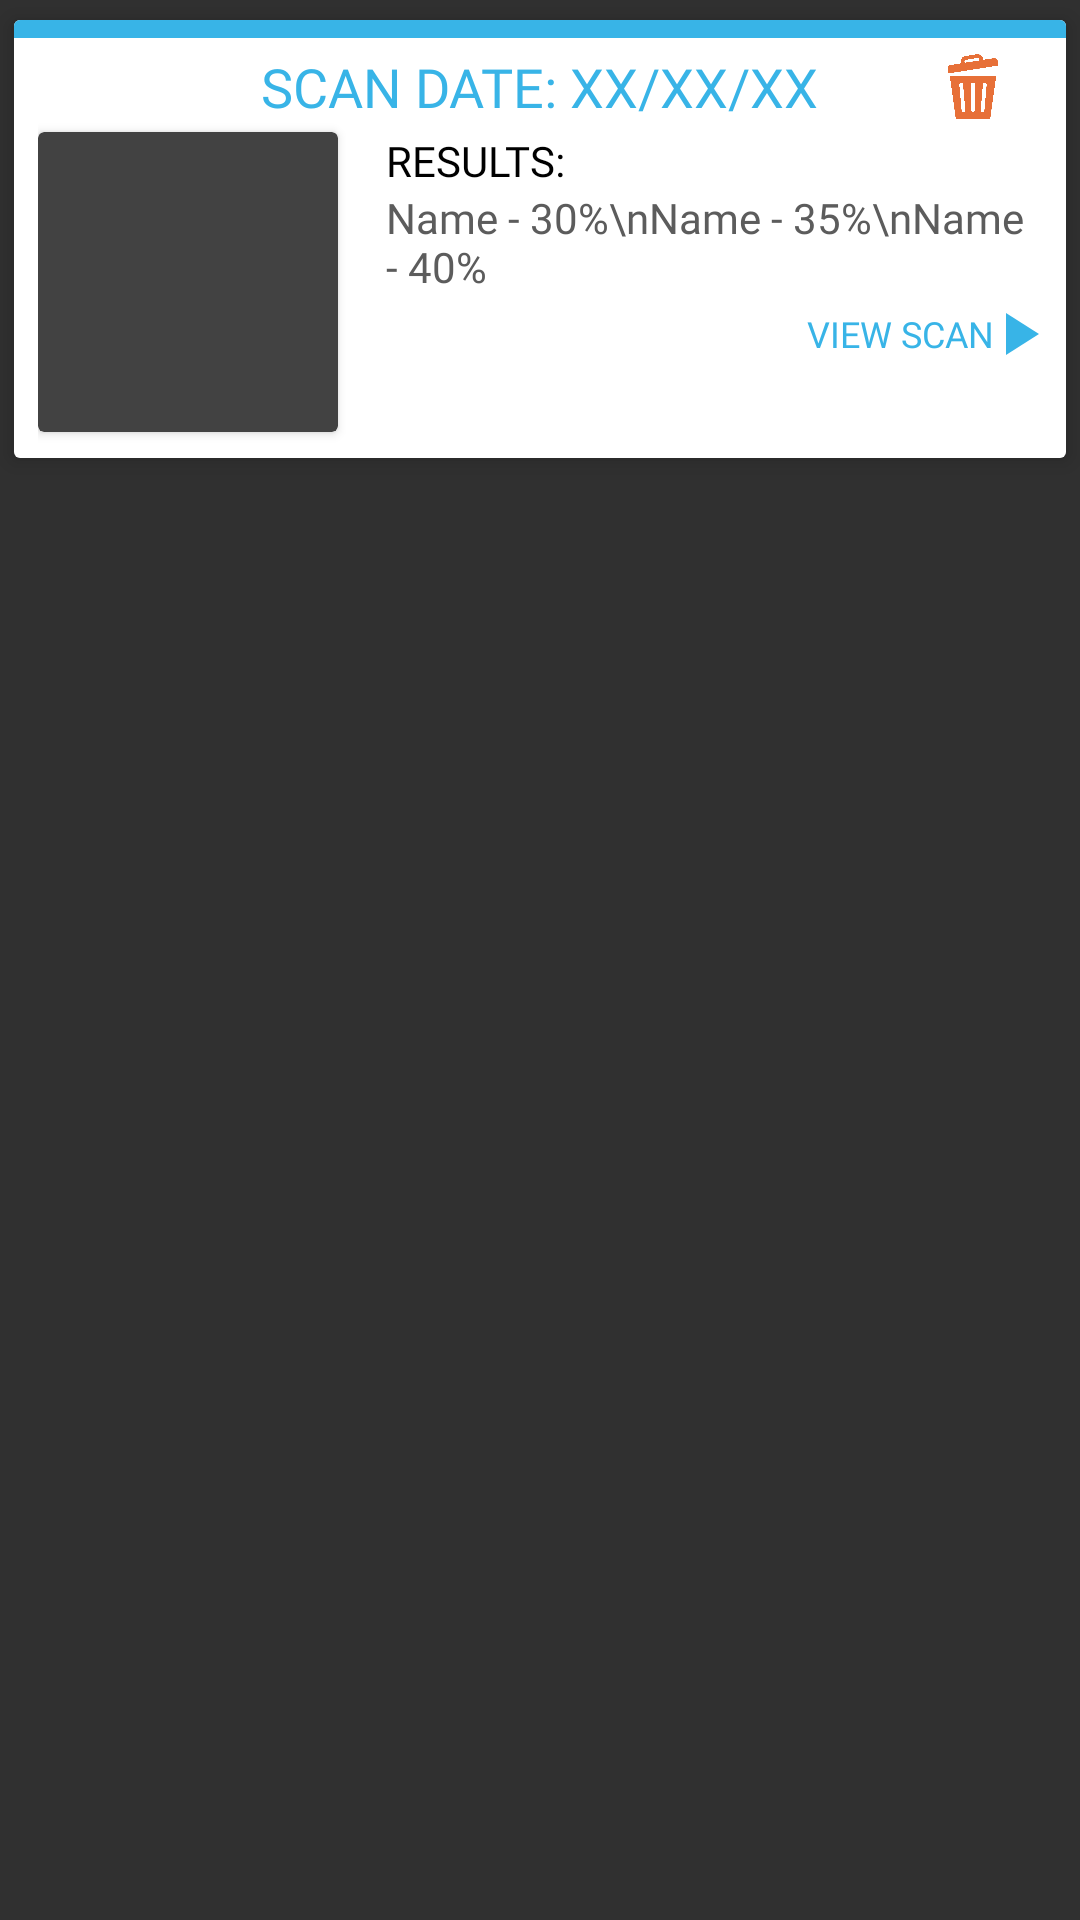

Icons on this 1080*1920 Android screen, each with its box as bbox=[x1, y1, x2, y2]:
right arrow: bbox=[1006, 313, 1039, 355]
trash can: bbox=[948, 54, 998, 119]
